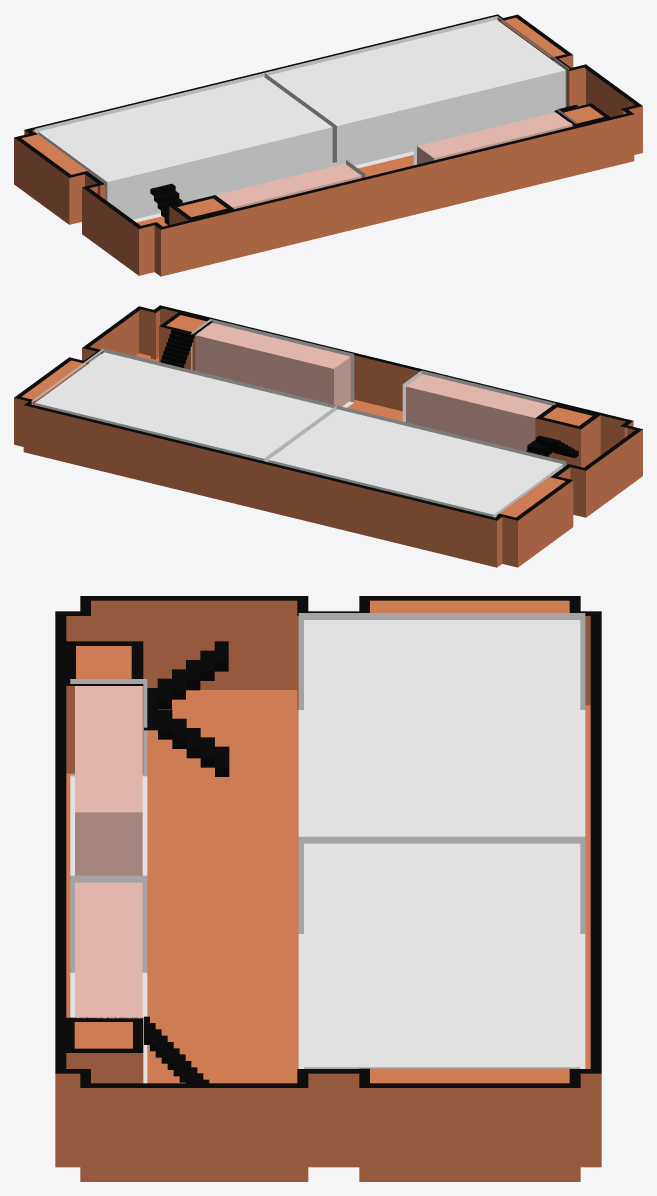
3 renders of one model, top to bottom at view 1: azimuth 30°, elevation 25°; view 2: azimuth 150°, elevation 25°; view 3: azimuth 270°, elevation 25°, orthographic. The views are drawn at different scales.
Visible parts, largest first — view 1: object, room_7_B1_1, room_7_B1_2, トイレ_7_B1_1, トイレ_7_B1_2, object_line.001, object_line.002, object_line, 階段_7_B1_1, object_line.003; view 2: object, room_7_B1_1, room_7_B1_2, トイレ_7_B1_1, トイレ_7_B1_2, object_line.001, object_line.002, object_line, 階段_7_B1_2, object_line.003, 階段_7_B1_1; view 3: object, room_7_B1_1, room_7_B1_2, トイレ_7_B1_2, トイレ_7_B1_1, object_line.002, 階段_7_B1_1, object_line.001, object_line, object_line.003, 階段_7_B1_2.
Boxes of the visible parts, left/top/right/bottom form: object: left=14, top=14, right=642, bottom=276; room_7_B1_1: left=268, top=20, right=565, bottom=165; room_7_B1_2: left=38, top=76, right=332, bottom=219; トイレ_7_B1_1: left=417, top=112, right=572, bottom=164; トイレ_7_B1_2: left=215, top=163, right=361, bottom=208; object_line.001: left=34, top=73, right=335, bottom=222; object_line.002: left=265, top=16, right=569, bottom=168; object_line: left=413, top=108, right=576, bottom=165; 階段_7_B1_1: left=150, top=183, right=182, bottom=225; object_line.003: left=212, top=160, right=365, bottom=195; object: left=14, top=305, right=642, bottom=567; room_7_B1_1: left=35, top=352, right=332, bottom=461; room_7_B1_2: left=268, top=409, right=562, bottom=517; トイレ_7_B1_1: left=195, top=323, right=350, bottom=406; トイレ_7_B1_2: left=406, top=374, right=551, bottom=451; object_line.001: left=265, top=405, right=566, bottom=467; object_line.002: left=31, top=348, right=336, bottom=409; object_line: left=191, top=319, right=354, bottom=407; 階段_7_B1_2: left=160, top=329, right=194, bottom=367; object_line.003: left=402, top=370, right=555, bottom=422; 階段_7_B1_1: left=526, top=435, right=578, bottom=458; object: left=55, top=596, right=601, bottom=1181; room_7_B1_1: left=304, top=843, right=580, bottom=1068; room_7_B1_2: left=304, top=620, right=580, bottom=836; トイレ_7_B1_2: left=75, top=686, right=142, bottom=875; トイレ_7_B1_1: left=75, top=882, right=142, bottom=1018; object_line.002: left=298, top=836, right=585, bottom=1068; 階段_7_B1_1: left=144, top=641, right=229, bottom=776; object_line.001: left=298, top=613, right=585, bottom=836; object_line: left=70, top=875, right=147, bottom=1083; object_line.003: left=70, top=679, right=147, bottom=875; 階段_7_B1_2: left=144, top=1016, right=209, bottom=1083.
Bounding box in the file's own units: 1.97 × 0.1929 × 0.9257.
